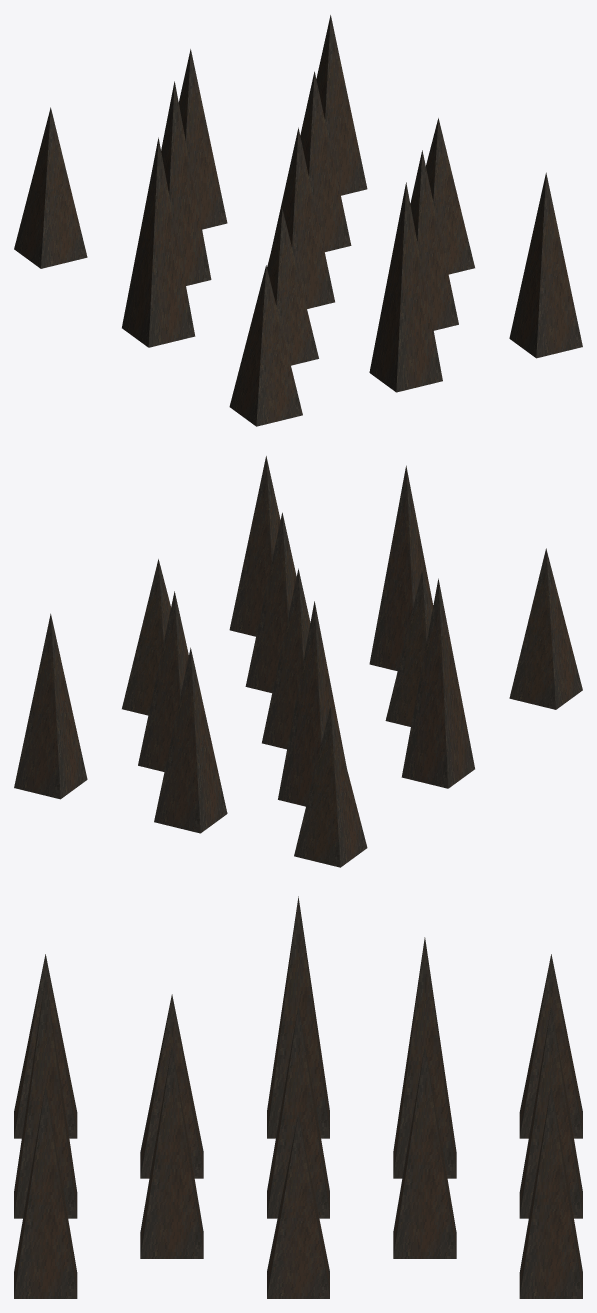
The model's file is spikes.glb.
3 views of the same model, one above another, from view 1: azimuth 30°, elevation 25°; view 2: azimuth 150°, elevation 25°; view 3: azimuth 270°, elevation 25° (orthographic). The views are drawn at different scales.
Visible parts, largest first — view 1: spikes; view 2: spikes; view 3: spikes.
Boxes of the visible parts, x1,y1,x2,y2 form: spikes: (14,15,582,426); spikes: (14,456,582,867); spikes: (14,896,582,1298).
Bounding box in the file's own units: 2.8 × 1.6 × 3.6.
1 material, 1 textured.
